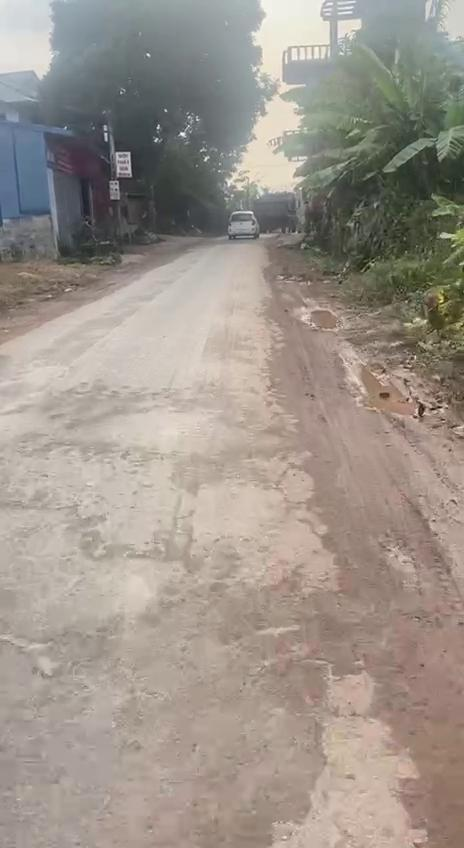pothole: (346, 357, 429, 426), (298, 306, 344, 332)
